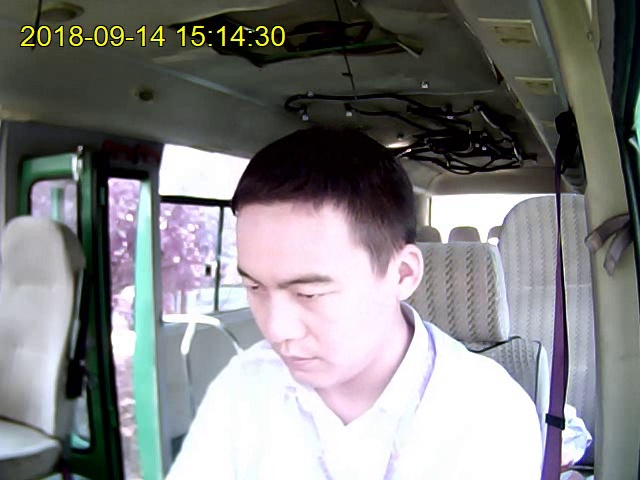closed_mouth: (281, 351, 319, 369)
